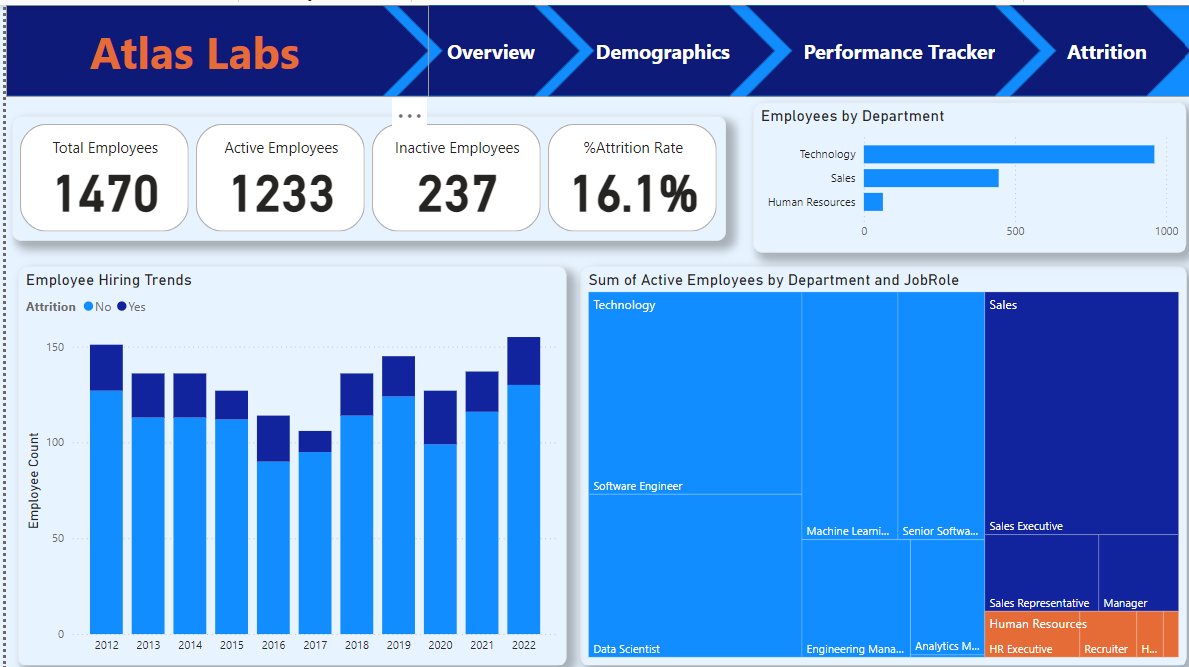

Layout of this report page (visuals, bound fields, positions):
{"tool":"powerbi","page":{"name":"Overview","canvas":[1280,720],"ordinal":0},"visuals":[{"type":"shape","box":[0,0,1280,99.2],"z":0},{"type":"shape","box":[1053.2,0,226.8,99.2],"z":1000,"group":"g1"},{"type":"cardVisual","fields":{"Data":["_Measures.Total Employees","_Measures.Active Employees","_Measures.Inactive Employees","_Measures.%Attrition Rate"]},"box":[6.7,105,765,163.3],"z":2000},{"type":"columnChart","title":"Employee Hiring Trends","fields":{"Category":["DimDate.Date.Variation.Date Hierarchy.Year","DimDate.Date.Variation.Date Hierarchy.Quarter","DimDate.Date.Variation.Date Hierarchy.Month","DimDate.Date.Variation.Date Hierarchy.Day"],"Y":["_Measures.TotalEmployeesDate"],"Series":["DimEmployee.Attrition"]},"box":[13.3,281.7,591.7,431.7],"z":6000},{"type":"treemap","fields":{"Group":["DimEmployee.Department"],"Values":["Sum(DimEmployee.Active Employees)"],"Details":["DimEmployee.JobRole"]},"box":[620,281.7,655,431.7],"z":7000},{"type":"clusteredBarChart","title":"Employees by Department","fields":{"Category":["DimEmployee.Department"],"Y":["_Measures.TotalEmployeesDate"]},"box":[806.7,105,468.3,161.7],"z":8000},{"type":"shape","box":[361.1,0,220.2,98.8],"z":9000,"group":"g1"},{"type":"shape","box":[544.1,0,263.9,98.8],"z":10000,"group":"g1"},{"type":"shape","box":[0,0,398.3,98.8],"z":11000,"group":"g1"},{"type":"shape","box":[772.4,0,317.4,98.8],"z":13000,"group":"g1"},{"type":"group","id":"g1","title":"Group 1","box":[0,0,1280.8,98.8],"z":17001}]}

Visuals, with their boxes in screenshot pixels (x1, y1, x2, y2), scaled from the page's 1280x720 canvas onto the 1189x667 screenshot:
shape: box(0, 0, 1188, 92)
shape: box(978, 0, 1188, 92)
cardVisual - _Measures.Total Employees x _Measures.Active Employees: box(6, 97, 717, 249)
"Employee Hiring Trends" columnChart: box(12, 261, 562, 661)
treemap - DimEmployee.Department x Sum(DimEmployee.Active Employees): box(576, 261, 1184, 661)
"Employees by Department" clusteredBarChart: box(749, 97, 1184, 247)
shape: box(335, 0, 540, 92)
shape: box(505, 0, 751, 92)
shape: box(0, 0, 370, 92)
shape: box(717, 0, 1012, 92)
"Group 1" group: box(0, 0, 1188, 92)
